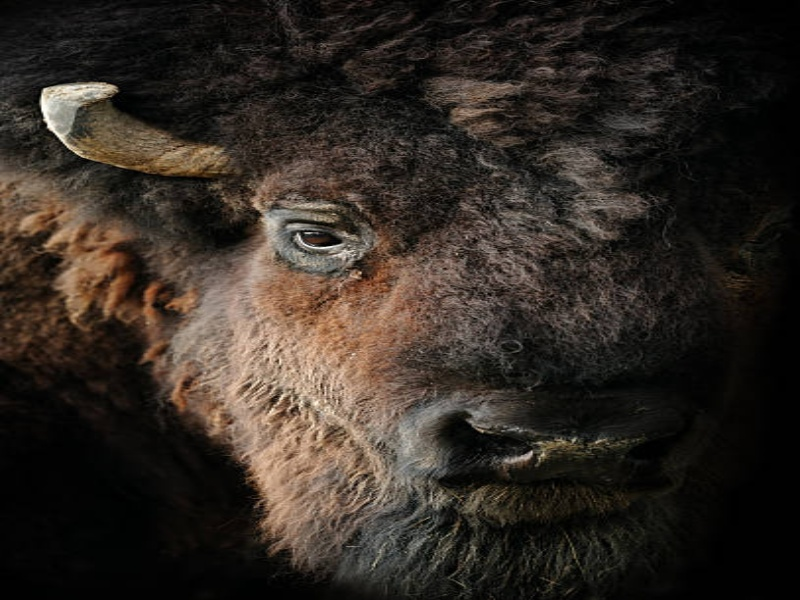buffalo: (29, 58, 741, 570)
